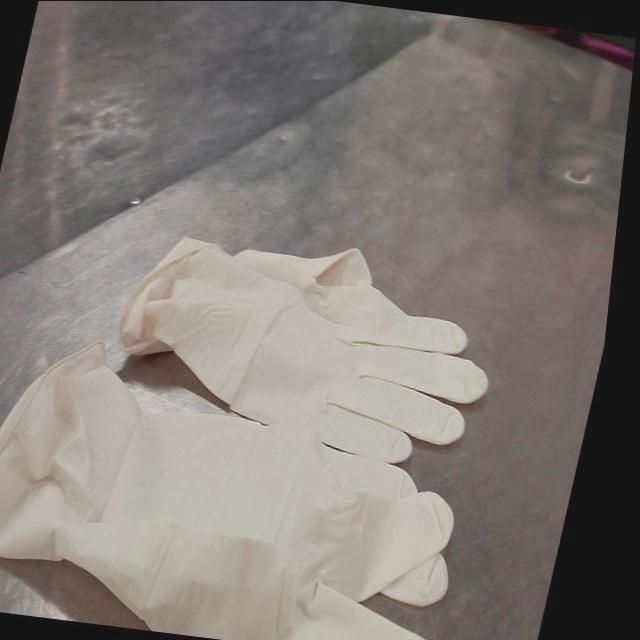General: (1, 2, 635, 637), (1, 233, 490, 637)
Infectious: (116, 234, 489, 462)
Sharps: (126, 194, 142, 205)
